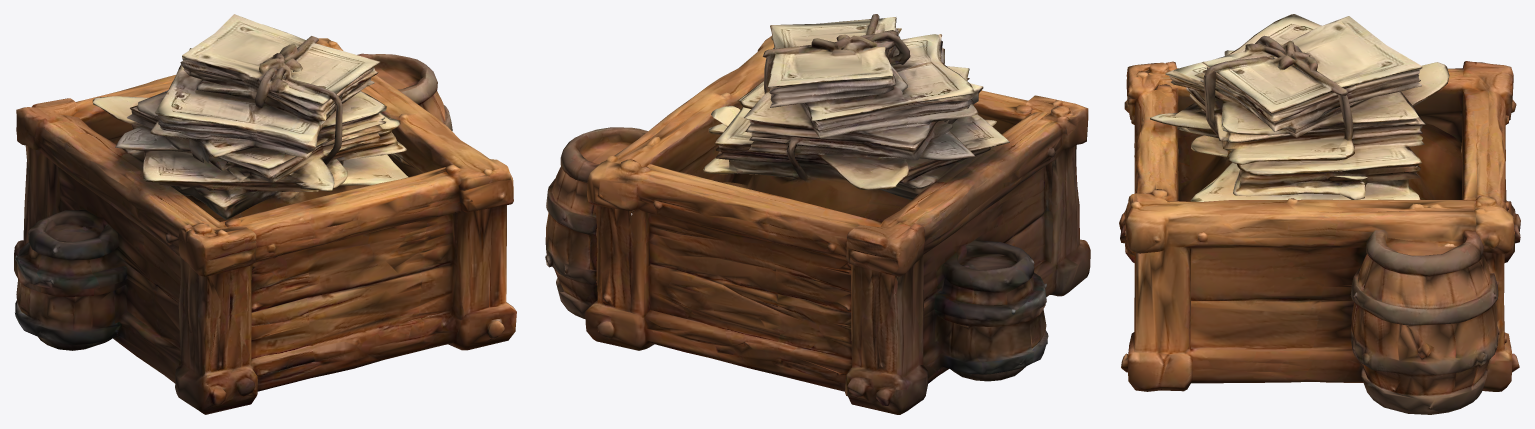
The model's file is pamphlets.glb.
3 renders of one model, left to right at view 1: azimuth 30°, elevation 25°; view 2: azimuth 150°, elevation 25°; view 3: azimuth 270°, elevation 25°, orthographic.
Visible parts, largest first — view 1: tripo_node_744a1ee4-c340-458f-9786-e71ea7223325; view 2: tripo_node_744a1ee4-c340-458f-9786-e71ea7223325; view 3: tripo_node_744a1ee4-c340-458f-9786-e71ea7223325.
Part boxes in pixels (<box>): tripo_node_744a1ee4-c340-458f-9786-e71ea7223325: <box>14,14,516,414</box>; tripo_node_744a1ee4-c340-458f-9786-e71ea7223325: <box>545,14,1090,414</box>; tripo_node_744a1ee4-c340-458f-9786-e71ea7223325: <box>1119,14,1520,414</box>.
Size of the model in its own units: 0.9793 by 0.5463 by 0.7407.
Materials: 1 (1 with a texture image).
